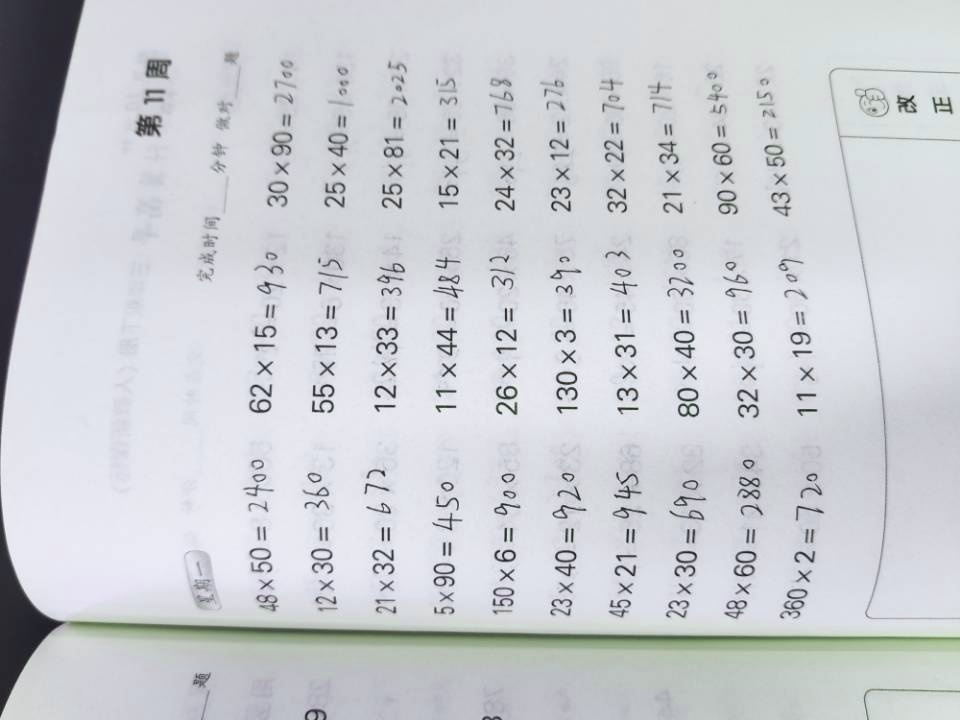equation: (647, 229, 719, 419), (764, 242, 834, 428), (352, 237, 415, 420), (231, 455, 299, 618), (477, 242, 537, 425), (593, 451, 653, 632), (747, 66, 812, 229), (718, 252, 776, 431), (300, 235, 356, 418), (414, 462, 475, 628), (350, 458, 412, 617), (696, 56, 753, 224), (297, 453, 356, 615), (313, 47, 366, 225), (476, 464, 534, 622), (599, 246, 652, 417), (424, 237, 474, 417), (243, 232, 290, 423), (534, 461, 587, 629), (638, 69, 696, 218), (545, 243, 592, 425), (658, 458, 707, 627), (427, 67, 481, 217), (475, 67, 527, 222), (257, 51, 308, 209), (779, 460, 825, 625), (537, 66, 587, 216), (375, 50, 418, 217), (725, 448, 763, 635), (590, 69, 635, 224)
